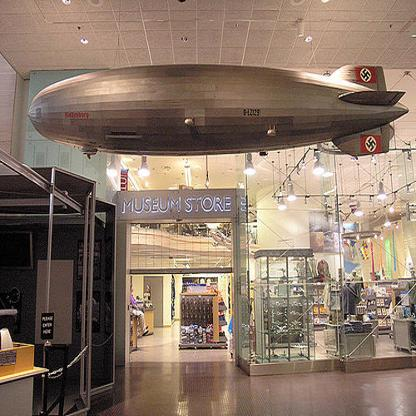Airship: (28, 65, 408, 163)
